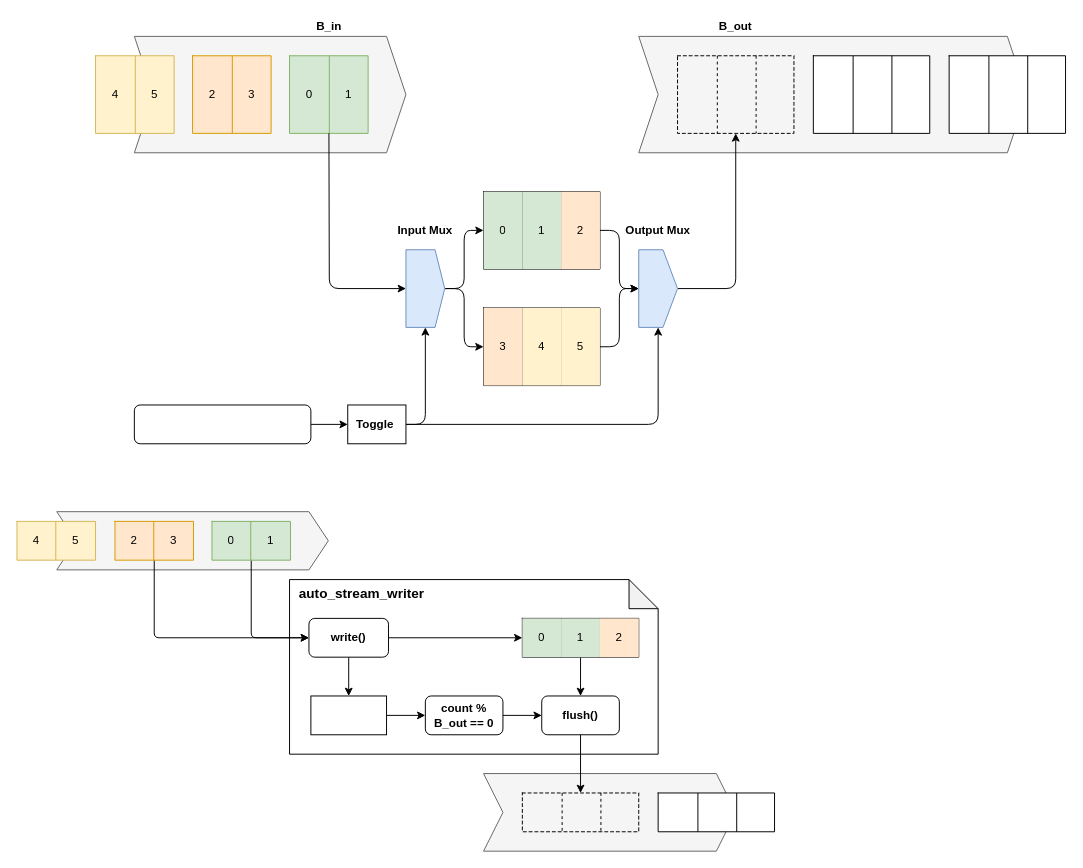
This 1083x868 diagram has some shape labels left out. Each missing label, with the centre of its shape:
"Input Counter % B_out == 0" belongs at (222,424).
"uint count;" belongs at (348,715).
